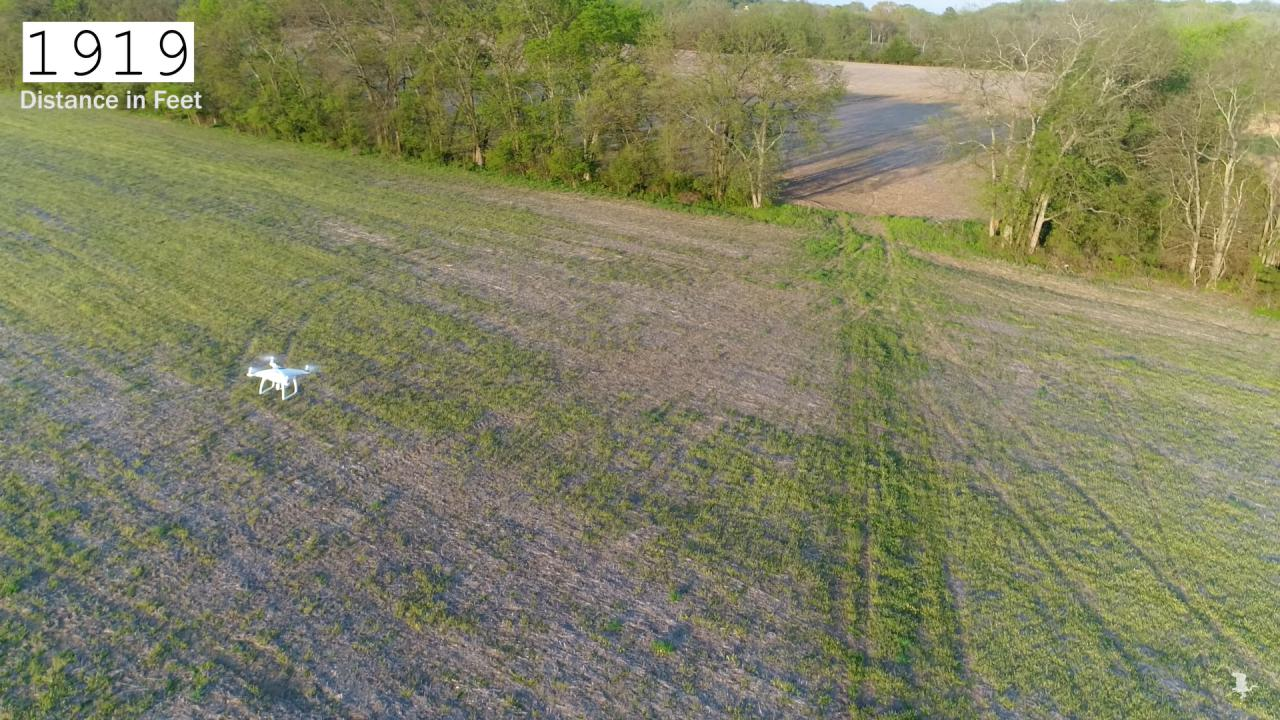Drone: (236, 343, 338, 412)
